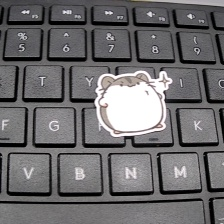mouse: (94, 68, 175, 142)
